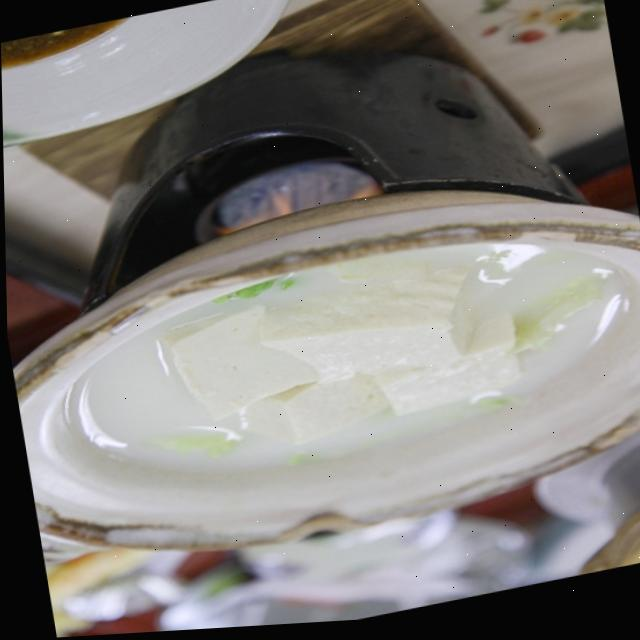豆腐料理: (3, 164, 640, 603)
